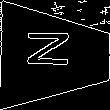N_E: (29, 36, 81, 76)
